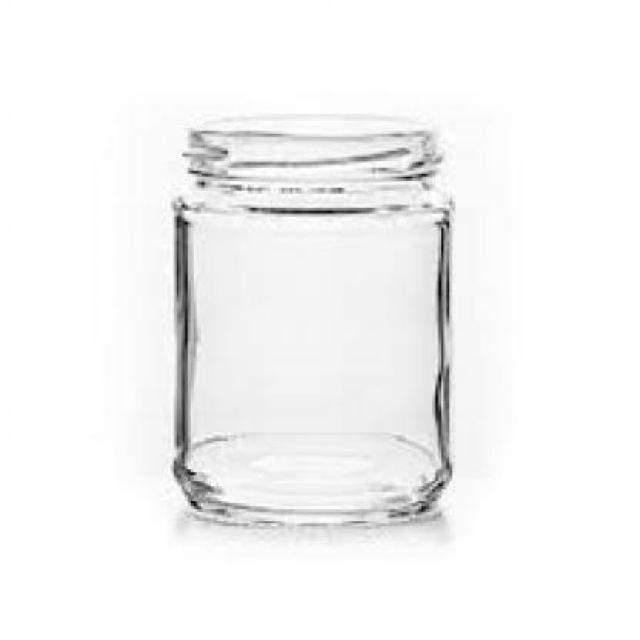kaca: (174, 126, 449, 519)
